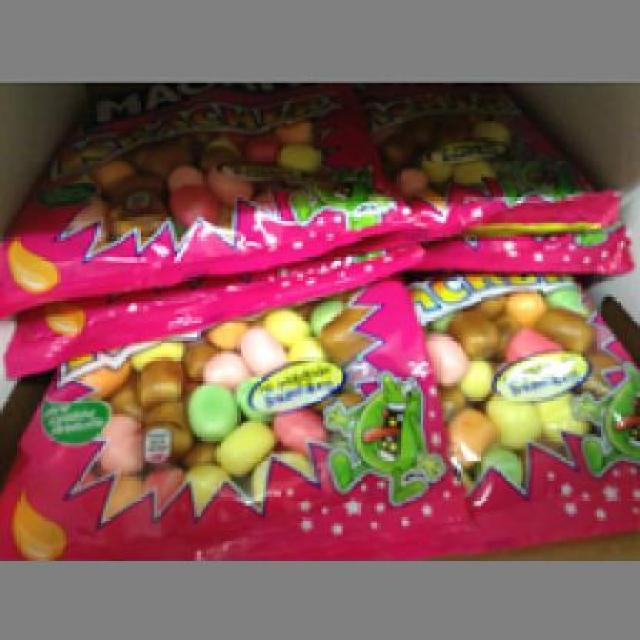Candy: (2, 314, 452, 554)
